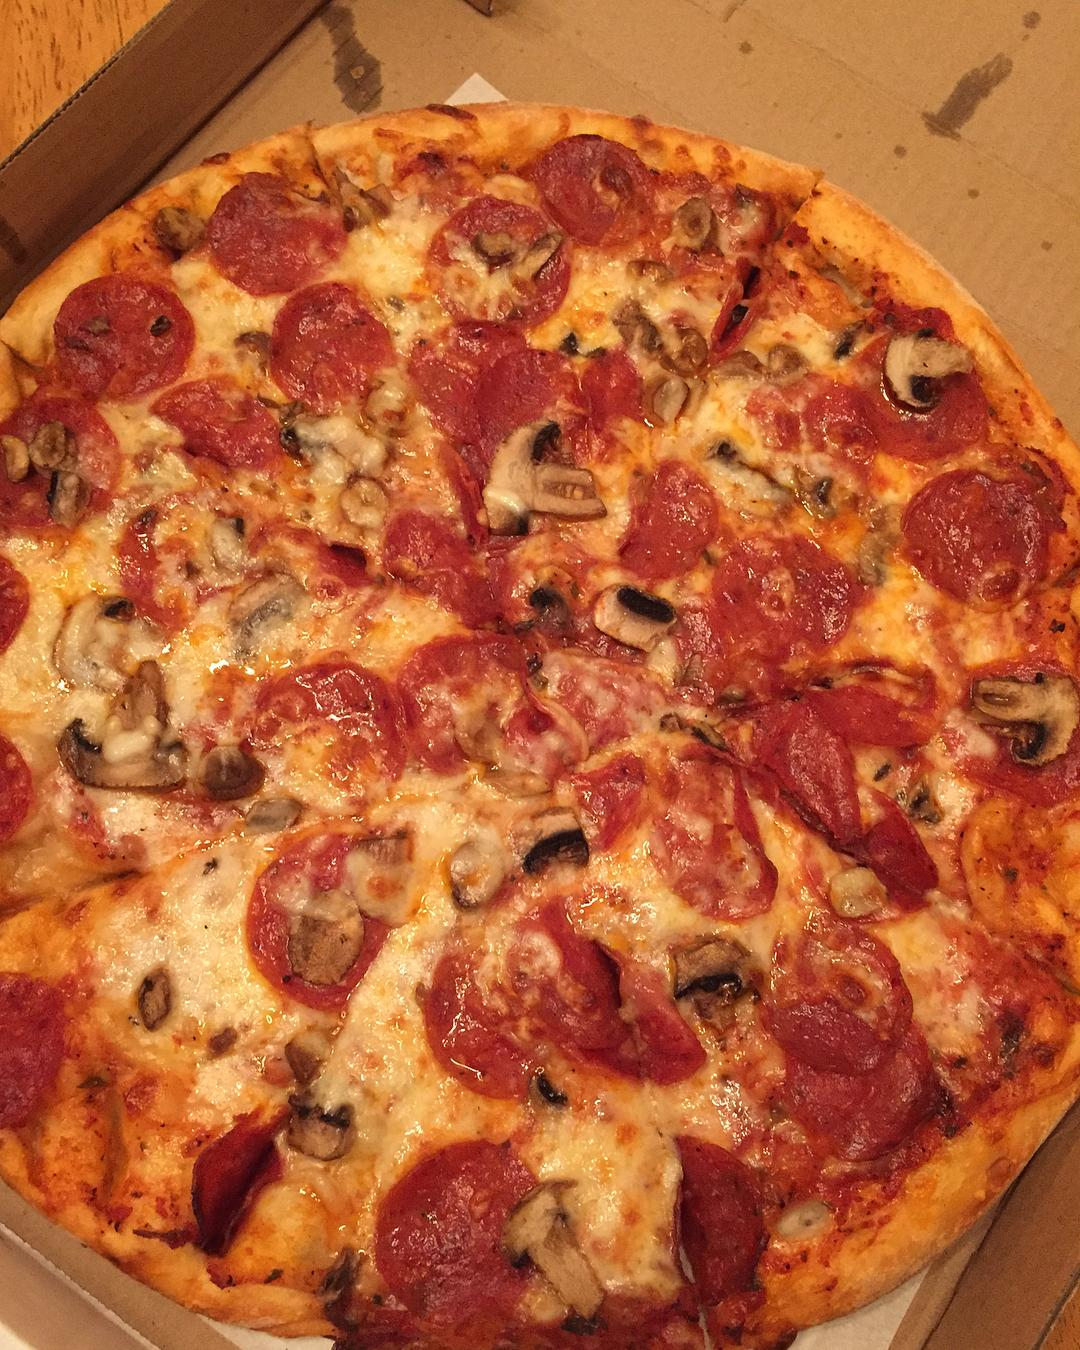Mushroom: (64, 652, 193, 801), (476, 411, 612, 541), (500, 1178, 614, 1320), (660, 933, 769, 1059), (969, 658, 1080, 777), (47, 591, 166, 696), (881, 316, 982, 421), (284, 882, 369, 1000), (441, 223, 564, 295), (344, 819, 415, 929), (590, 577, 682, 659), (281, 1095, 370, 1174), (506, 809, 597, 881), (185, 734, 268, 811), (40, 466, 90, 533), (136, 963, 177, 1043), (673, 194, 725, 257), (28, 422, 79, 480), (204, 515, 251, 572), (530, 1067, 570, 1119), (0, 431, 33, 488)
Pepperoni: (512, 888, 710, 1080), (371, 1131, 538, 1344), (244, 825, 417, 1011), (245, 647, 414, 810), (754, 912, 922, 1072), (767, 1015, 944, 1163), (641, 748, 782, 922), (895, 461, 1056, 609), (396, 620, 541, 785), (698, 526, 853, 677), (659, 1126, 773, 1327), (410, 946, 544, 1104), (199, 161, 347, 300), (50, 264, 197, 403), (430, 188, 569, 334), (262, 279, 403, 414), (737, 701, 864, 846), (461, 341, 584, 479), (778, 654, 943, 754), (379, 498, 511, 623), (406, 311, 538, 426), (187, 1111, 284, 1263), (617, 447, 721, 588), (147, 366, 287, 469), (532, 127, 658, 241), (0, 950, 68, 1140), (851, 782, 947, 896), (572, 342, 650, 429), (1, 724, 36, 862), (0, 551, 34, 667)
Pizza: (0, 97, 1080, 1350)
